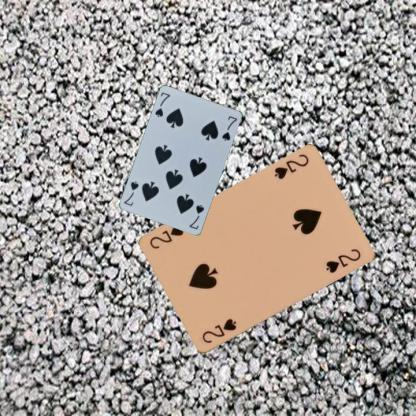2s: (199, 316, 238, 345), (272, 152, 310, 181)
7s: (186, 202, 206, 231), (152, 90, 172, 119)
